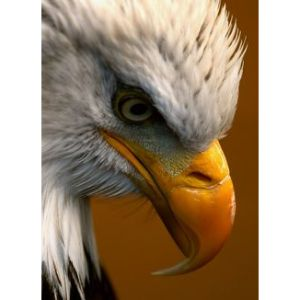eagle: (41, 1, 250, 299)
